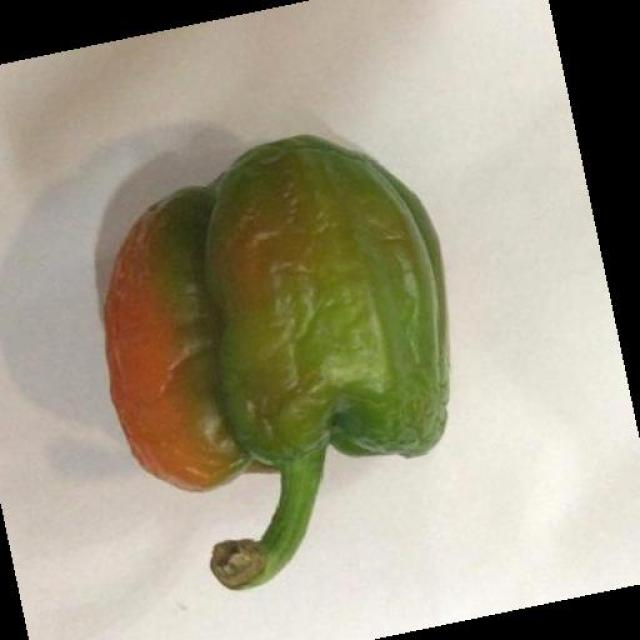Stale_Capsicum: (99, 170, 472, 570)
